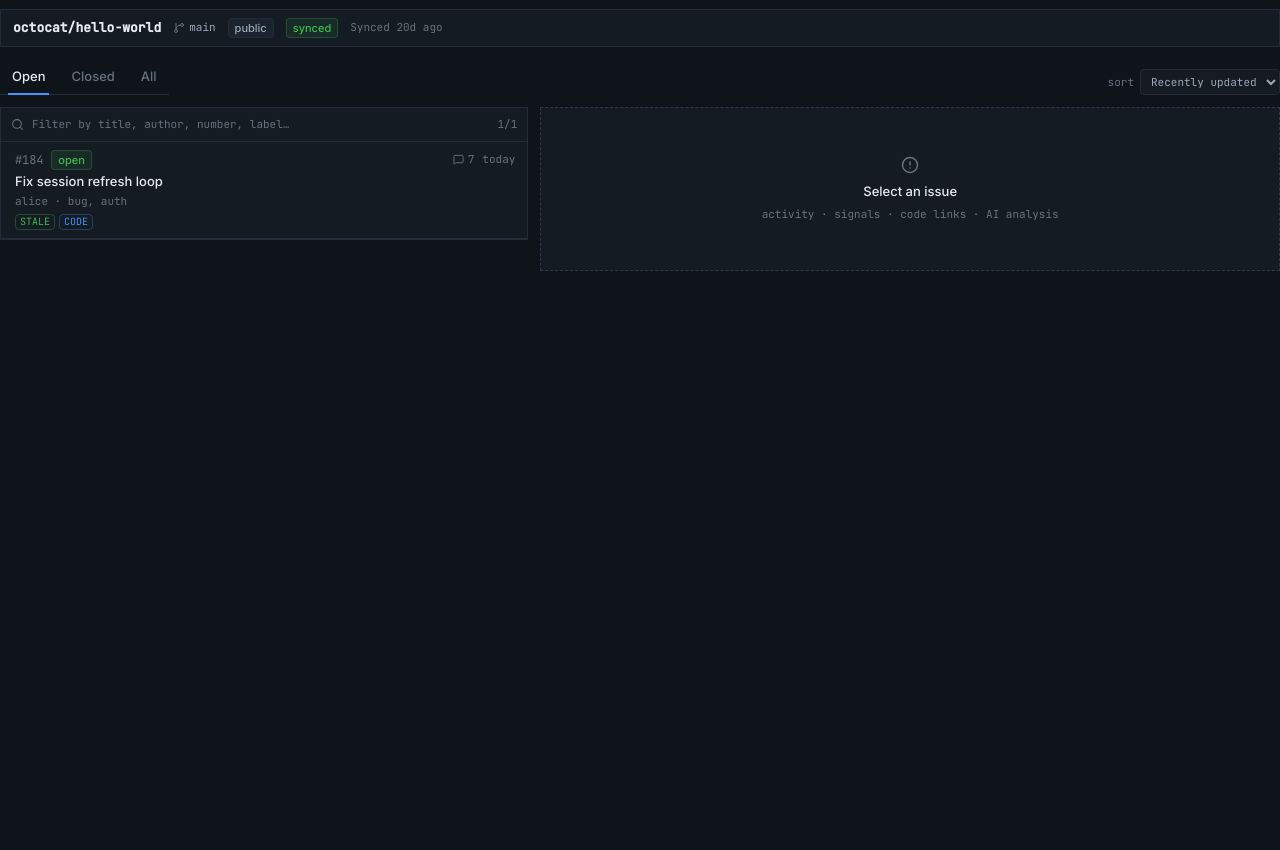
Scenario: IssuesPage real intelligence › shows the AI unavailable state when no provider is configured
Click the text "Fix session refresh loop" at (89, 180), box [15, 172, 163, 188]
(page scrolled)
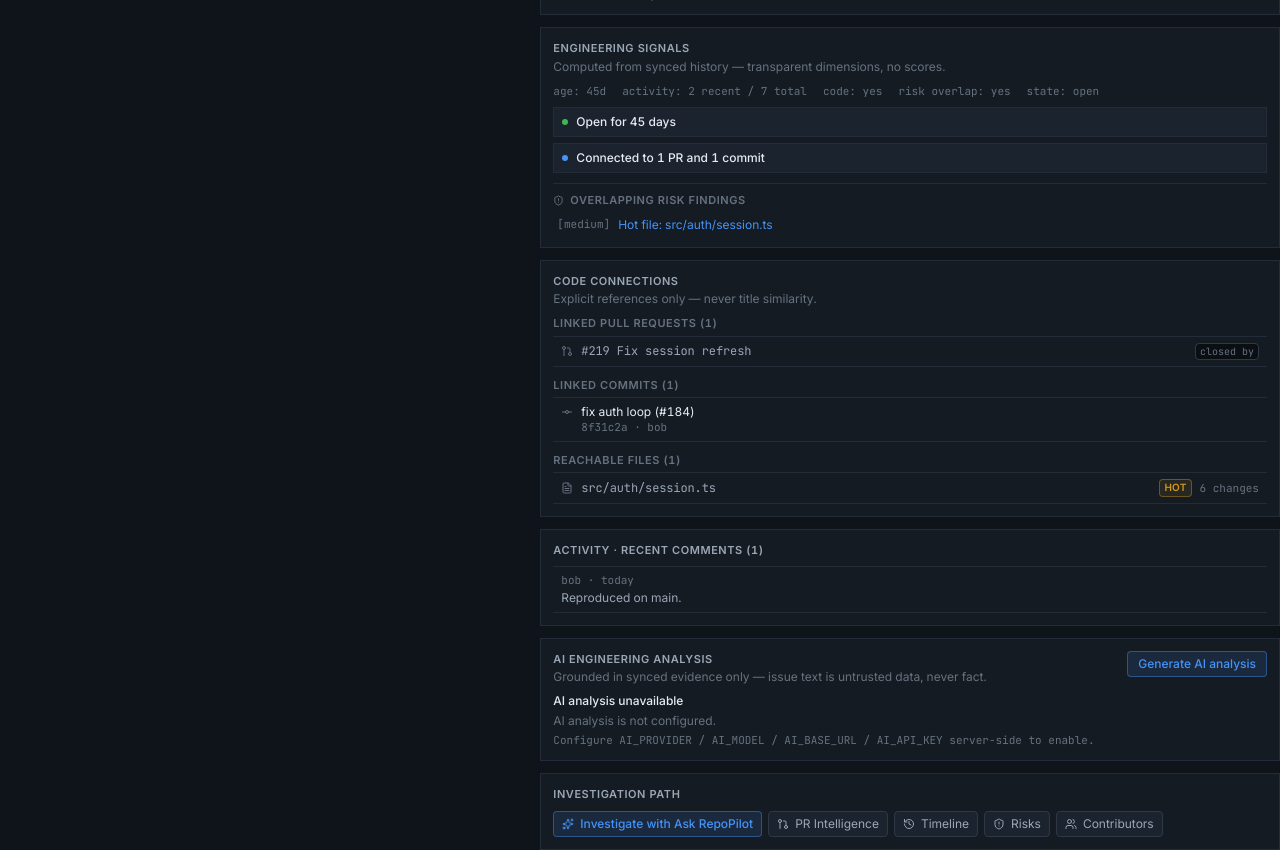
Check: the text "AI analysis unavailable" is shown, box [553, 694, 683, 708]
Check: the text "AI analysis is not configured." is shown, box [553, 714, 716, 728]
